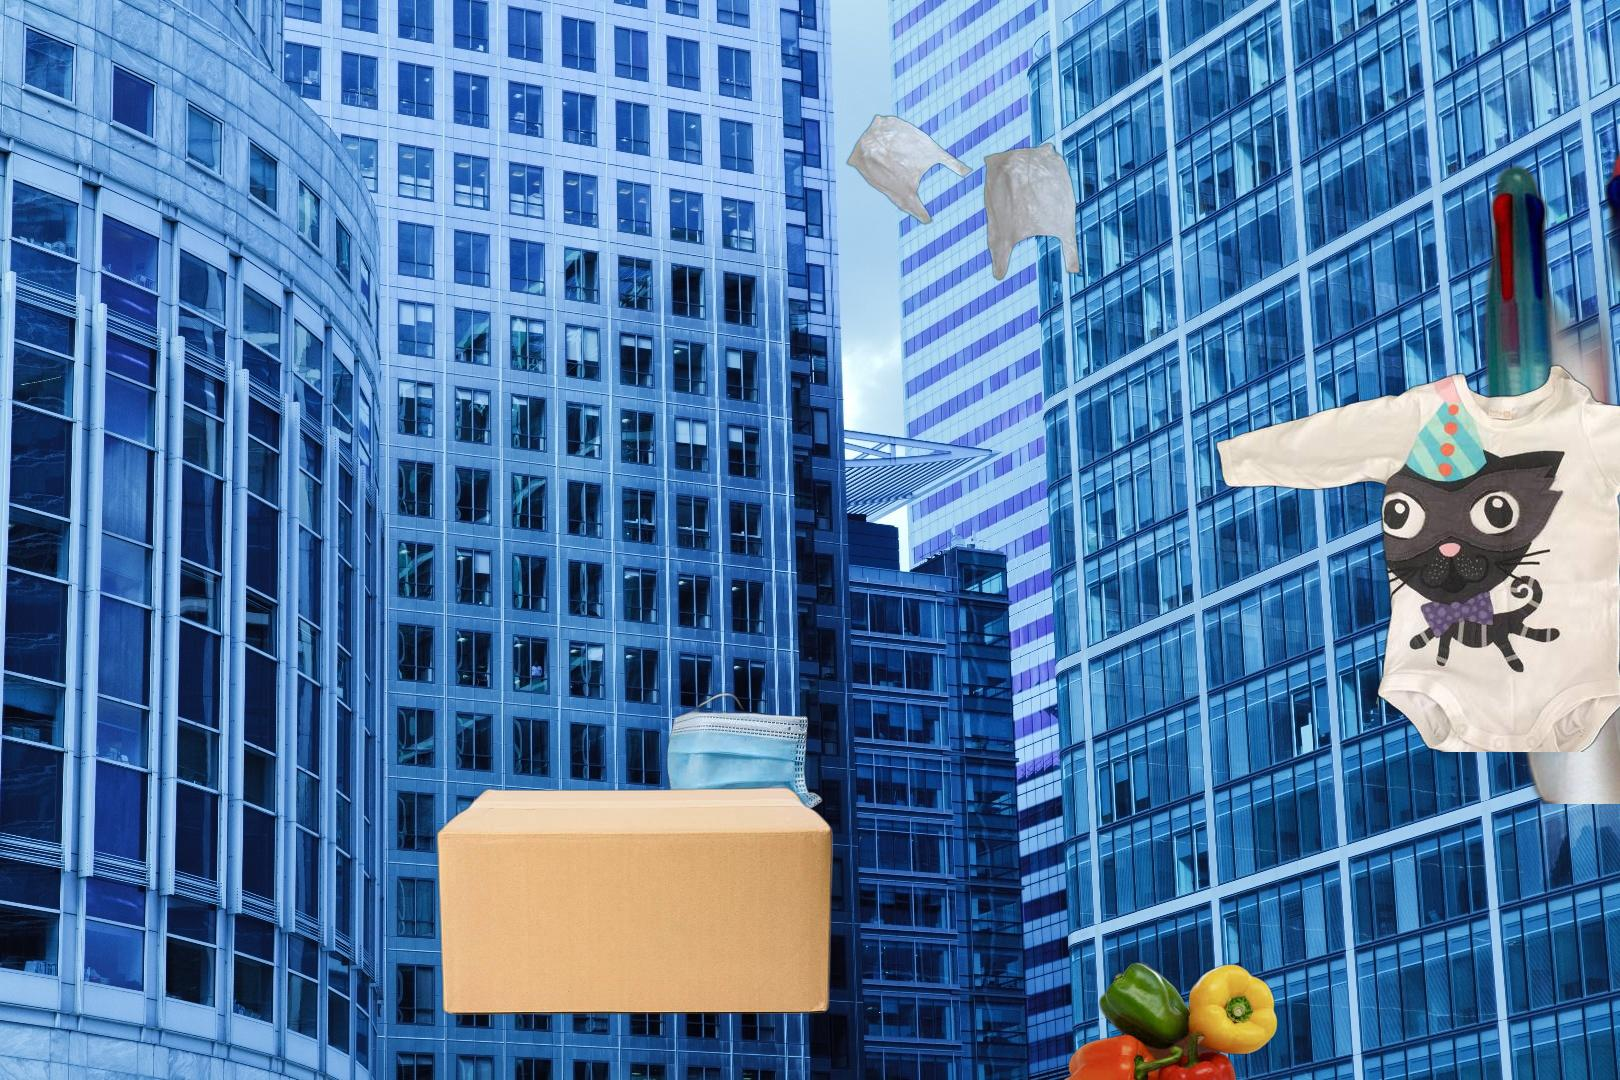biological: (1060, 958, 1281, 1080)
clothes: (1210, 352, 1620, 752)
penholder: (1475, 141, 1620, 804)
plastic-bag: (843, 112, 1084, 283)
trash: (664, 689, 824, 843)
trashbox-cardboard: (432, 785, 839, 1019)
